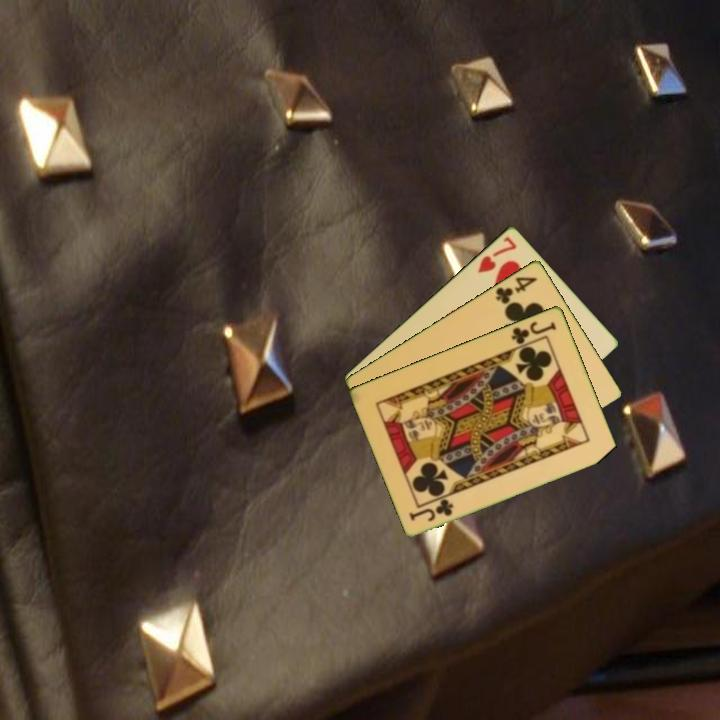4c: (492, 273, 540, 307)
7h: (474, 233, 519, 275)
Jc: (508, 317, 559, 347), (406, 495, 456, 524)
